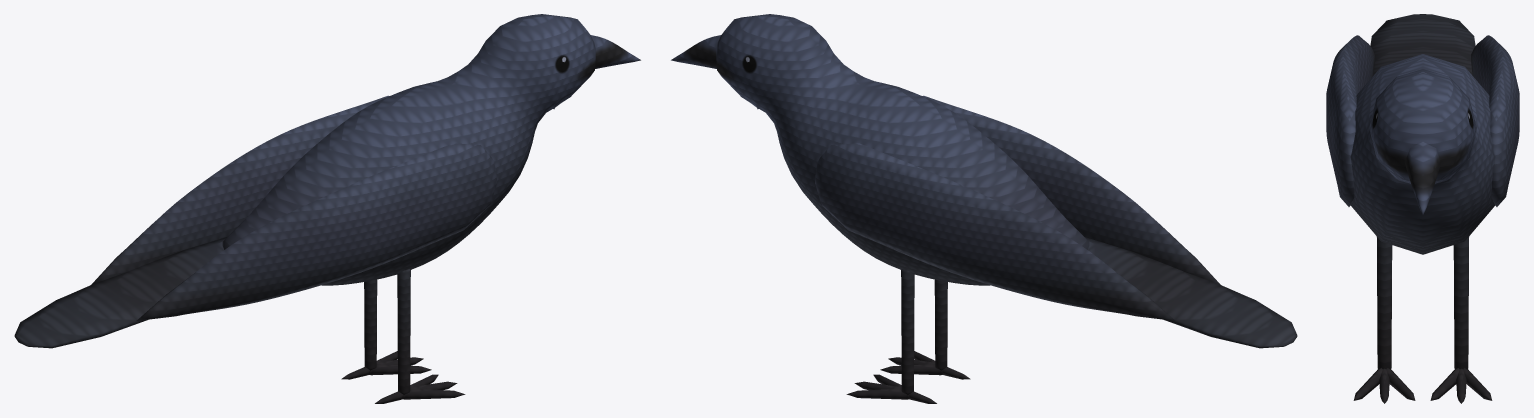
The model's file is crow.glb.
3 views of the same model, side by side, from view 1: azimuth 30°, elevation 25°; view 2: azimuth 150°, elevation 25°; view 3: azimuth 270°, elevation 25° (orthographic). The views are drawn at different scales.
Parts seen in each view (by area): view 1: crow; view 2: crow; view 3: crow.
Part boxes in pixels (x1=…): crow: x1=14, y1=14, x2=640, y2=403; crow: x1=671, y1=14, x2=1297, y2=403; crow: x1=1326, y1=14, x2=1519, y2=403.
Bounding box in the file's own units: 0.45 × 0.2289 × 0.1053.
1 material, 1 textured.
